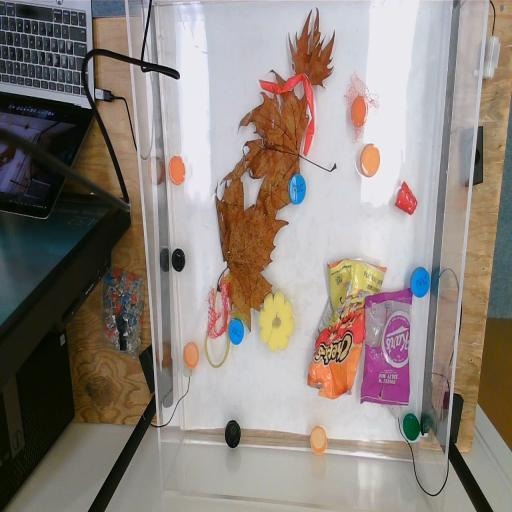Bottle Cap: (360, 143, 380, 178), (410, 266, 430, 298), (350, 94, 368, 128), (288, 173, 306, 204), (310, 426, 328, 456), (402, 412, 420, 442), (168, 156, 186, 185), (224, 420, 241, 450), (228, 317, 244, 345), (184, 341, 200, 368), (172, 249, 186, 273)
Cone Cap: (394, 179, 420, 217)
Leaf: (220, 70, 338, 212), (214, 176, 290, 334), (288, 7, 335, 90)
Netting: (343, 67, 381, 149), (205, 272, 228, 339)
Plastic Bag: (307, 257, 387, 400), (360, 288, 414, 408)
Plastic Strand: (258, 72, 315, 157), (204, 278, 231, 369)
Sponge: (258, 292, 294, 352)
